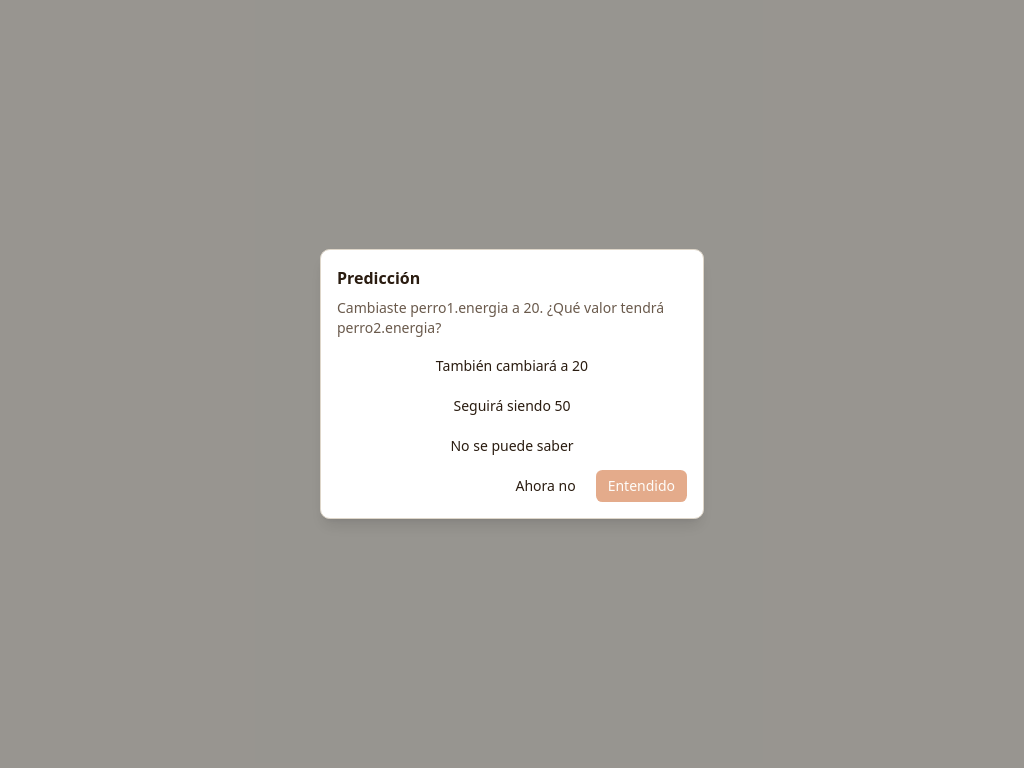
PredictionDialog › asks about the sibling and explains the misconception
expect the text "¿Qué valor tendrá perro2.energia?" is shown: met, box [337,298,664,337]
Click the button "También cambiará a 20" at (512, 366), box [337,350,687,382]
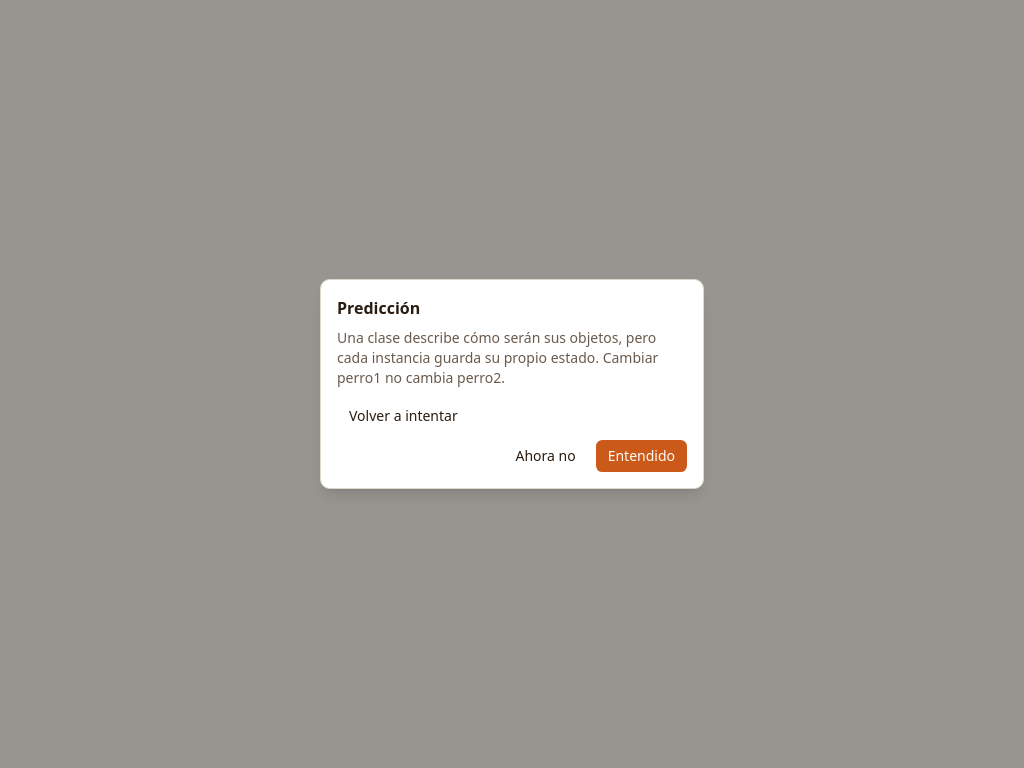
expect the text "cada instancia guarda su propio estado" is shown: met, box [337,328,658,387]
